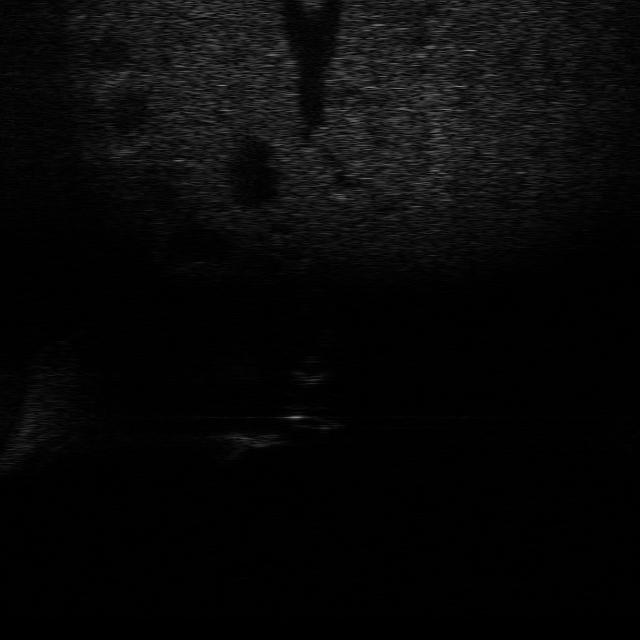ball: (279, 354, 336, 387)
square cage: (215, 428, 295, 465)
tyre: (280, 410, 346, 434)
